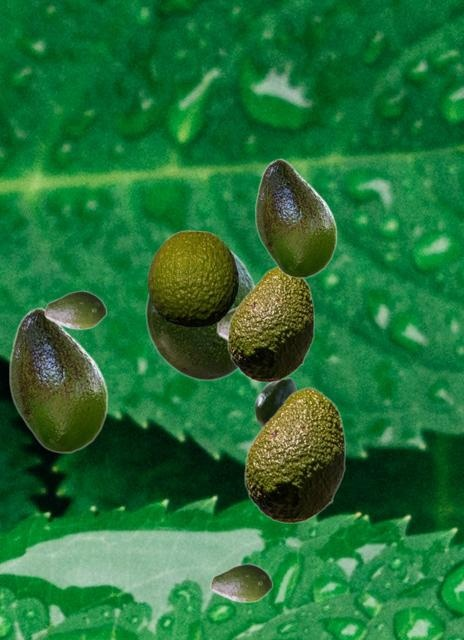avocado: (9, 307, 107, 452), (145, 250, 254, 380), (244, 387, 344, 523), (227, 266, 313, 382), (255, 158, 336, 277), (147, 230, 237, 326), (210, 563, 272, 602), (44, 290, 106, 329), (254, 377, 297, 426), (216, 306, 236, 341)
